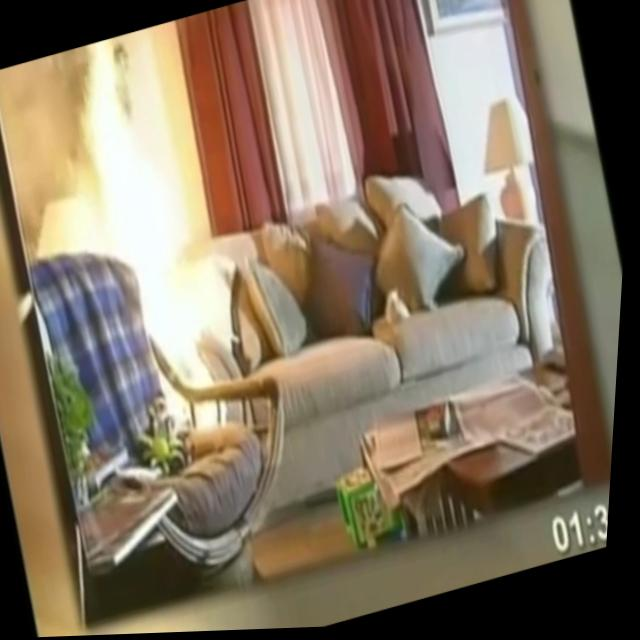fire: (41, 27, 248, 443)
